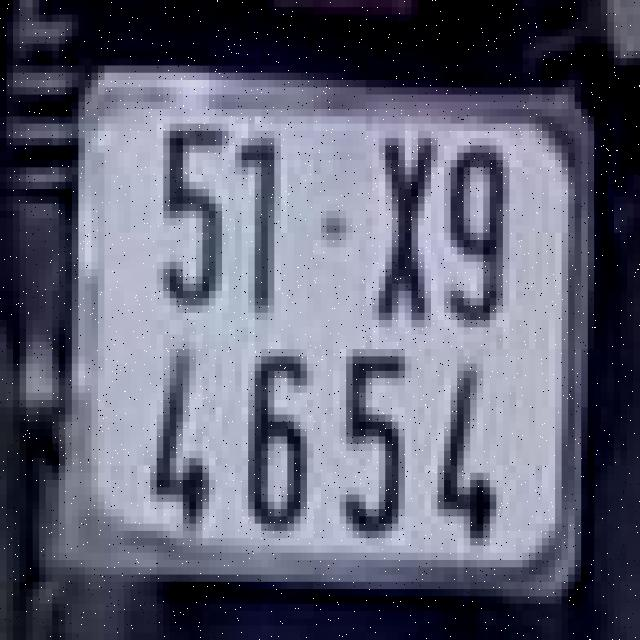1: (232, 120, 304, 324)
4: (428, 346, 512, 556), (144, 338, 209, 527)
5: (144, 116, 228, 328), (339, 338, 412, 542)
6: (235, 331, 320, 542)
9: (447, 131, 526, 334)
X: (356, 120, 441, 331)
